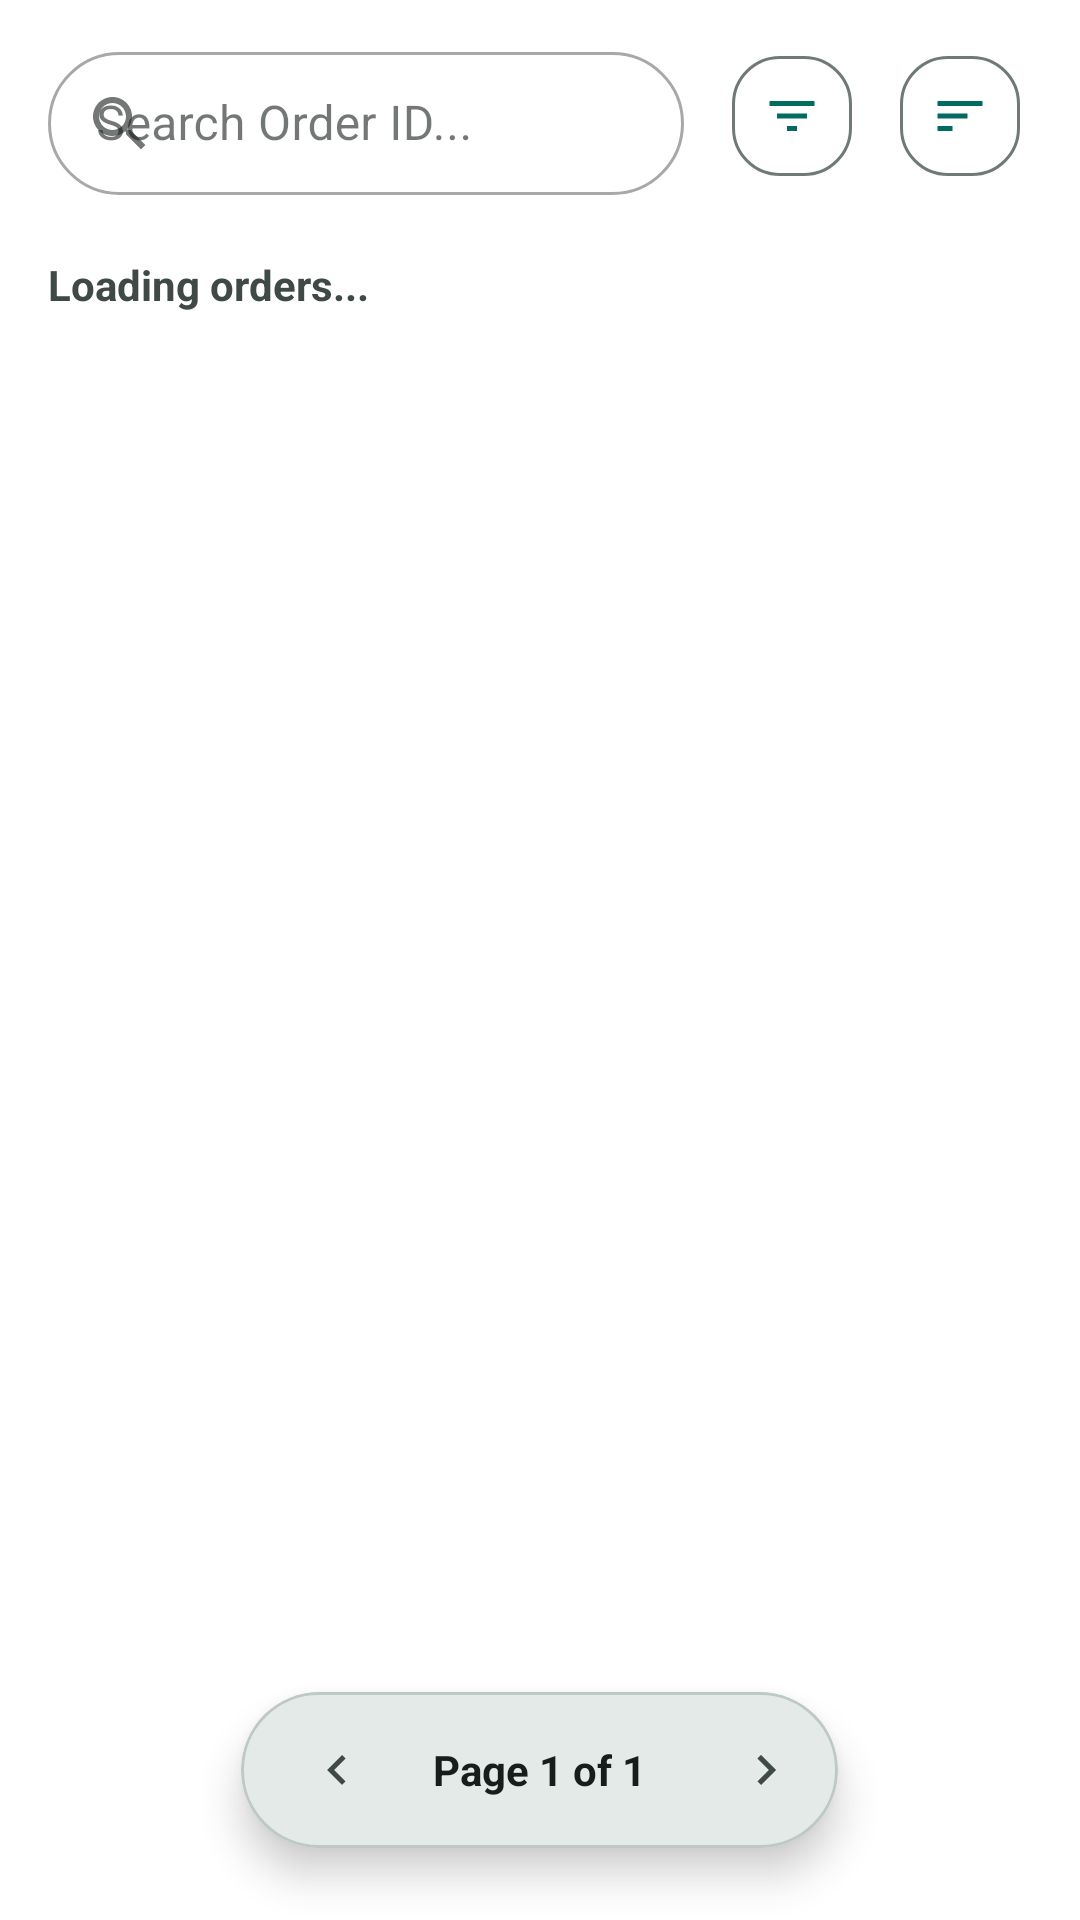

Screen size 1080px×1920px. Icon name, then its center in pixels as point (x, y):
chevron left: point (336, 1770)
chevron right: point (766, 1770)
filter list: point (792, 116)
sort: point (960, 116)
